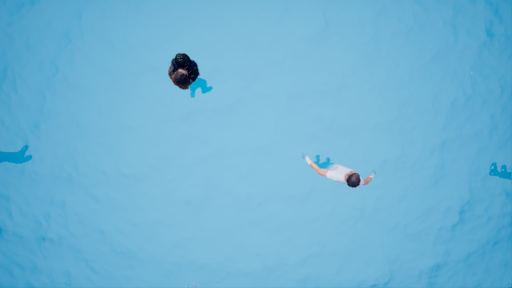person: (296, 141, 379, 192), (164, 47, 217, 101)
